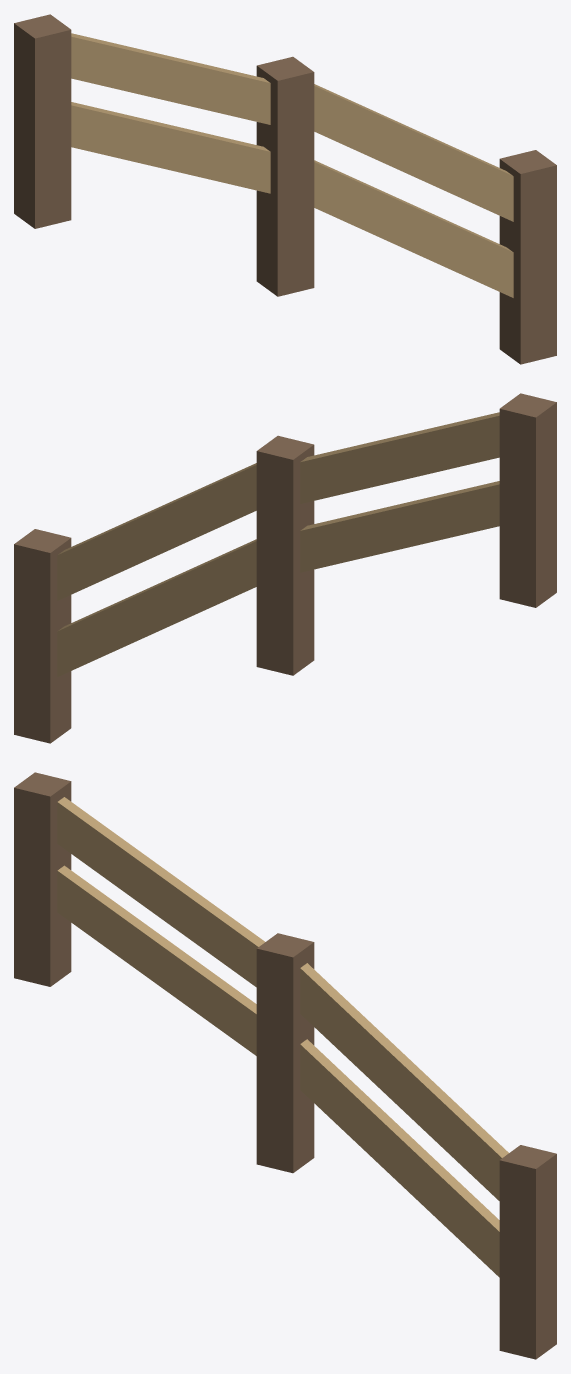
File: Hilly_Prop_Fence_Hill_Sharp.obj
3 renders of one model, top to bottom at view 1: azimuth 30°, elevation 25°; view 2: azimuth 150°, elevation 25°; view 3: azimuth 330°, elevation 25°, orthographic.
Parts seen in each view (by area): view 1: object5, object1, object2, object4, object3, object6, object7; view 2: object5, object1, object2, object4, object3, object6, object7; view 3: object5, object2, object4, object3, object7, object6, object1.
Boxes of the visible parts, x1,y1,x2,y2 form: object5: [256, 56, 314, 296]; object1: [14, 14, 71, 228]; object2: [499, 150, 556, 364]; object4: [314, 84, 513, 221]; object3: [314, 160, 513, 297]; object6: [71, 102, 270, 193]; object7: [71, 33, 270, 124]; object5: [256, 435, 314, 675]; object1: [499, 393, 556, 607]; object2: [14, 529, 71, 743]; object4: [57, 463, 256, 600]; object3: [57, 539, 256, 676]; object6: [300, 481, 499, 572]; object7: [300, 412, 499, 503]; object5: [256, 933, 314, 1173]; object2: [499, 1145, 556, 1359]; object4: [300, 963, 508, 1200]; object3: [300, 1039, 499, 1277]; object7: [57, 797, 264, 987]; object6: [57, 865, 256, 1055]; object1: [14, 772, 71, 986].
Size of the model in its own units: 2.15 by 1.75 by 0.15.
